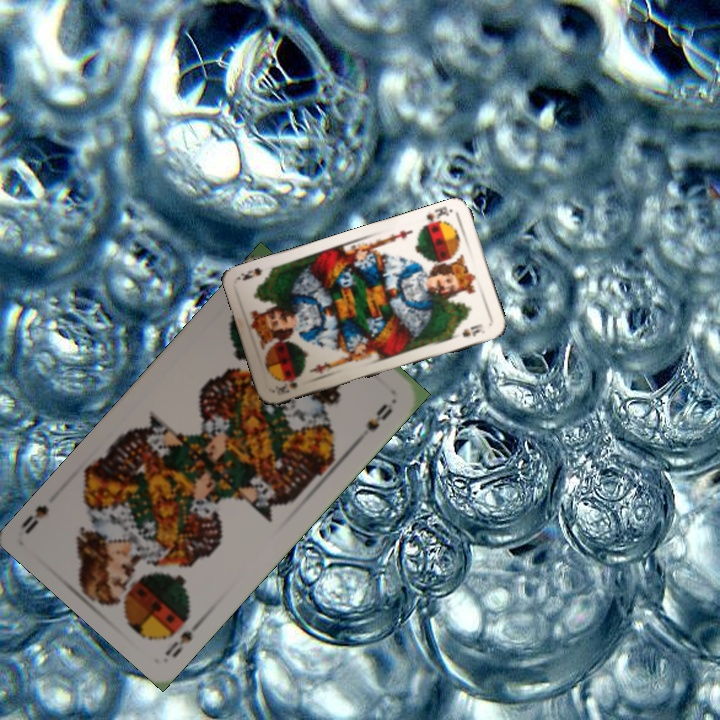SK: (418, 203, 455, 231), (274, 376, 300, 397)
SO: (160, 613, 207, 661)
